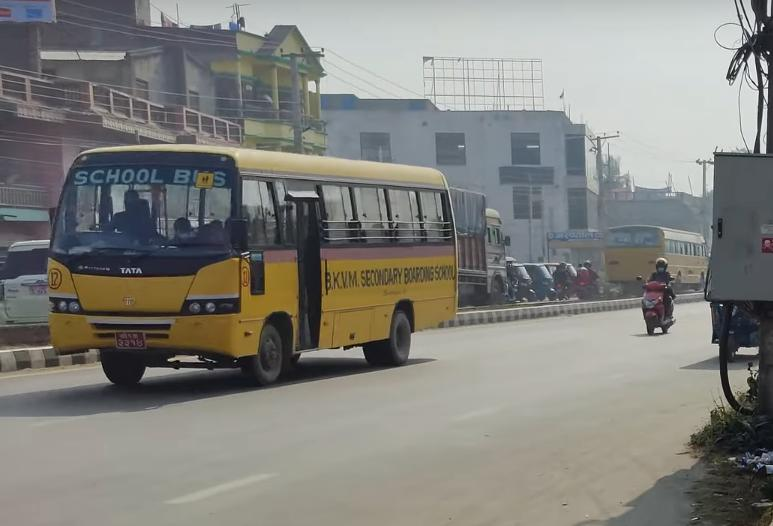auto_rickshaw: (507, 260, 535, 307), (531, 263, 558, 302)
school_bus: (40, 141, 465, 395), (604, 225, 709, 294)
scooter: (634, 276, 680, 337)
truck: (446, 185, 511, 312)
